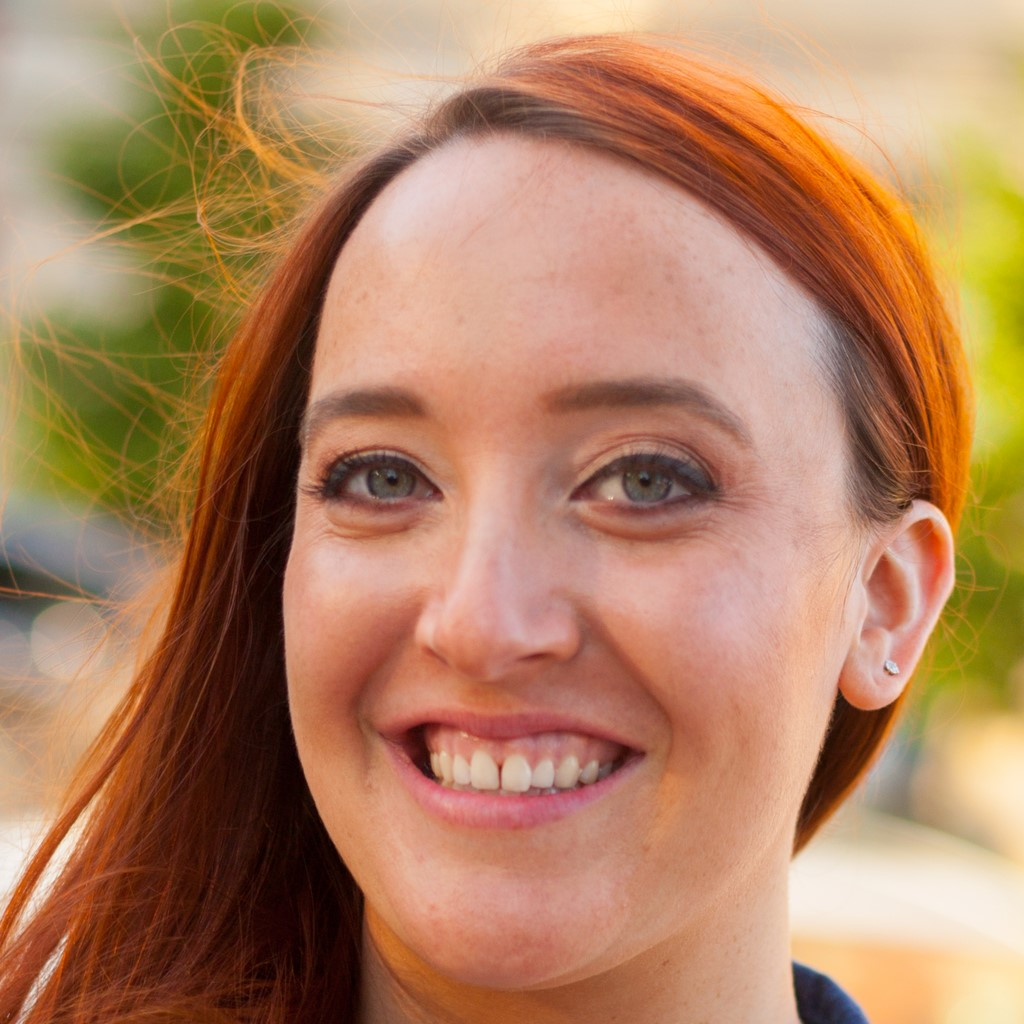sin_mascara: (284, 128, 879, 975)
